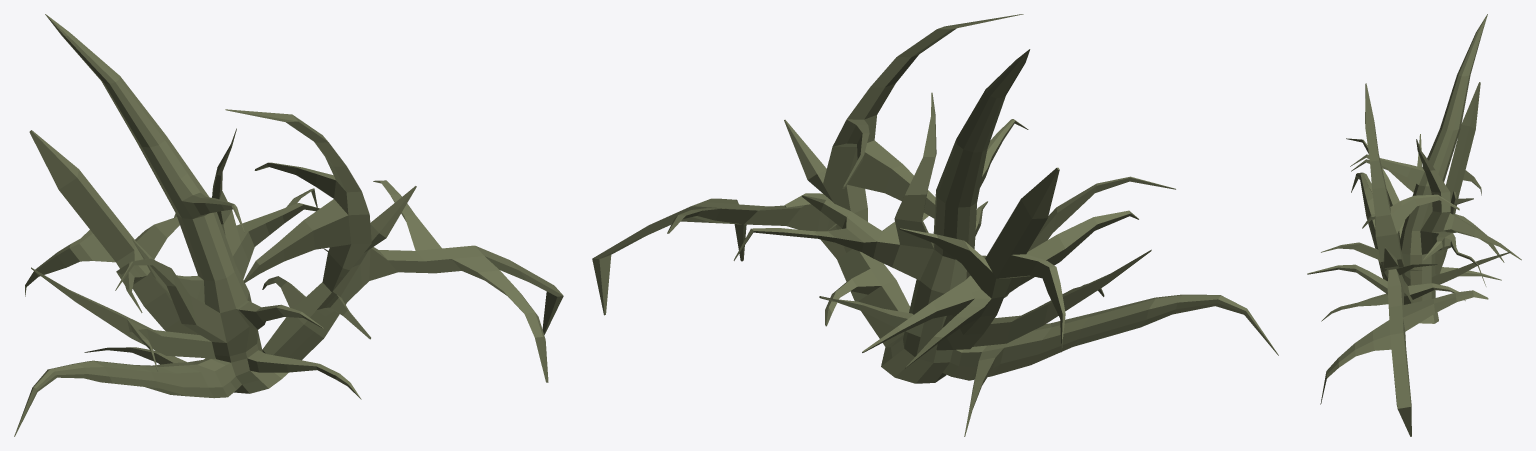
File: Doornstruik.fbx
The picture shows the model from 3 angles, left to right: view 1: azimuth 30°, elevation 25°; view 2: azimuth 150°, elevation 25°; view 3: azimuth 270°, elevation 25°; orthographic projection. The views are drawn at different scales.
Visible parts, largest first — view 1: Cylinder; view 2: Cylinder; view 3: Cylinder.
Part boxes in pixels (box(x1,y1,x2,y2)): Cylinder: box(14, 14, 563, 436); Cylinder: box(592, 14, 1278, 436); Cylinder: box(1307, 14, 1521, 436).
Bounding box in the file's own units: 67.72 × 43.37 × 30.92.
